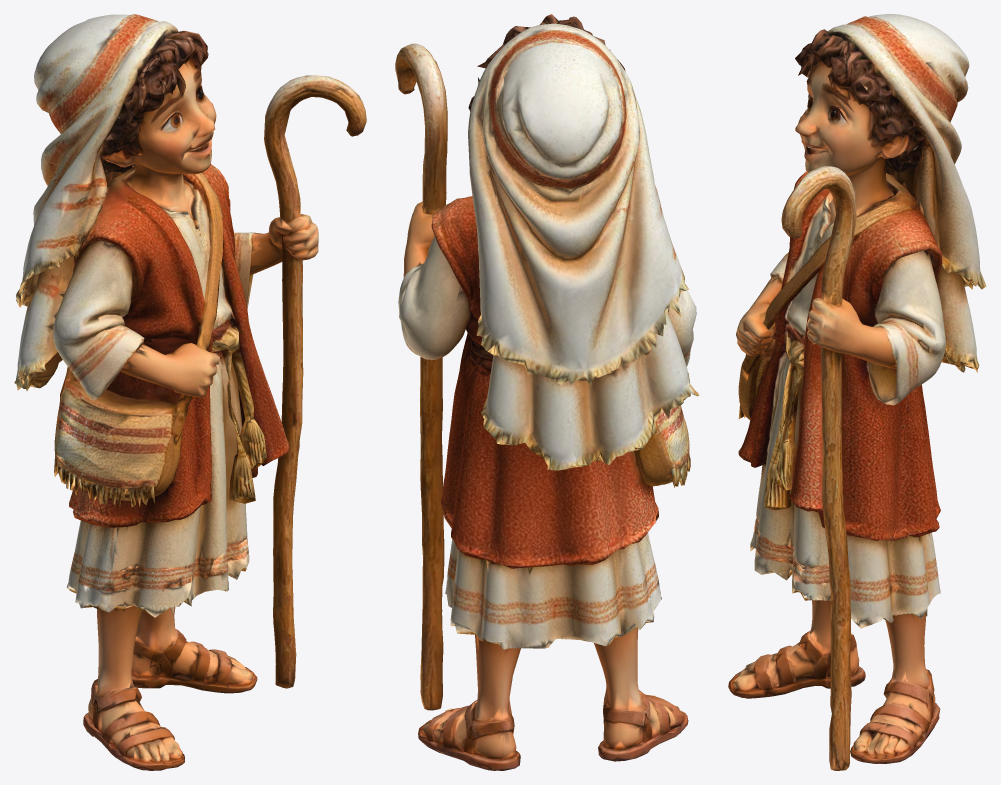
File: shepherd2.glb
The picture shows the model from 3 angles, left to right: view 1: azimuth 30°, elevation 25°; view 2: azimuth 150°, elevation 25°; view 3: azimuth 270°, elevation 25°; orthographic projection. The views are drawn at different scales.
Visible parts, largest first — view 1: tripo_node_ca25ab17-db49-4dce-885b-a677b493714e; view 2: tripo_node_ca25ab17-db49-4dce-885b-a677b493714e; view 3: tripo_node_ca25ab17-db49-4dce-885b-a677b493714e.
Boxes of the visible parts, box(x1,y1,x2,y2) form: tripo_node_ca25ab17-db49-4dce-885b-a677b493714e: box(14, 14, 366, 770); tripo_node_ca25ab17-db49-4dce-885b-a677b493714e: box(395, 14, 699, 770); tripo_node_ca25ab17-db49-4dce-885b-a677b493714e: box(728, 14, 986, 770).
Bounding box in the file's own units: 0.4722 × 0.9799 × 0.3345.
1 material, 1 textured.
